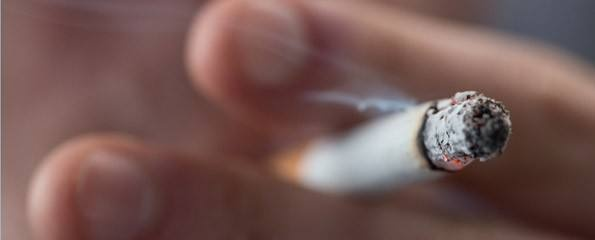sigaretta: (275, 87, 521, 191)
